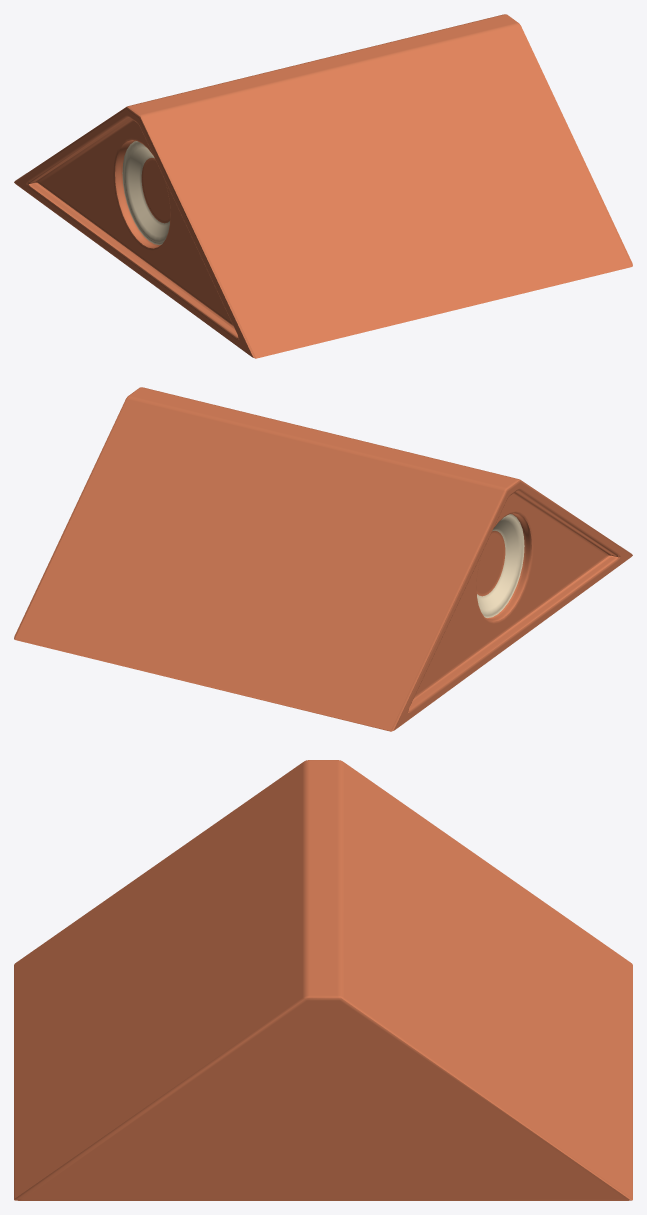
The model's file is Top House1.fbx.
3 renders of one model, top to bottom at view 1: azimuth 30°, elevation 25°; view 2: azimuth 150°, elevation 25°; view 3: azimuth 270°, elevation 25°, orthographic. The views are drawn at different scales.
Visible parts, largest first — view 1: Plane.005; view 2: Plane.005; view 3: Plane.005.
Part boxes in pixels (<box>): Plane.005: <box>14,14,632,358</box>; Plane.005: <box>14,387,632,731</box>; Plane.005: <box>14,760,632,1200</box>.
Size of the model in its own units: 355 by 142 by 389.
